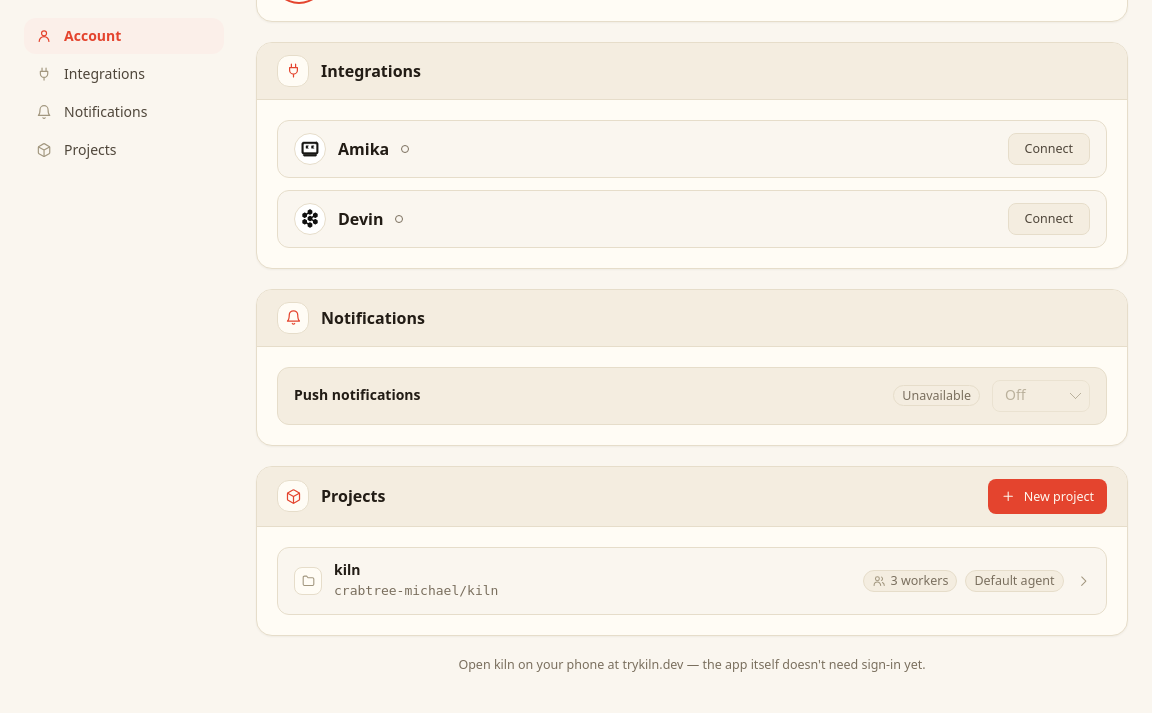
Dashboard › "New project" opens the same dialog in create mode
(page scrolled)
Click the button "New project": [1048, 496] box [988,479,1107,514]
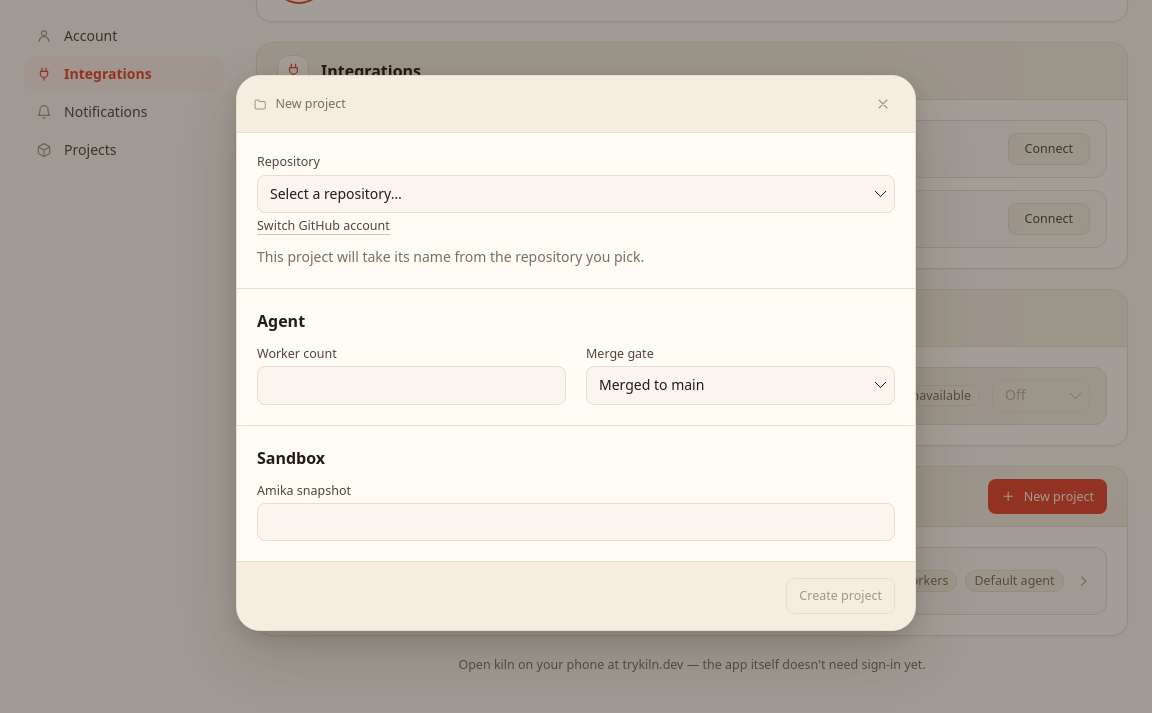
Now the dialog "New project" is shown, box [236,75,916,631]
Now the dropdown labelled "Repository" is shown, box [257,175,895,213]
